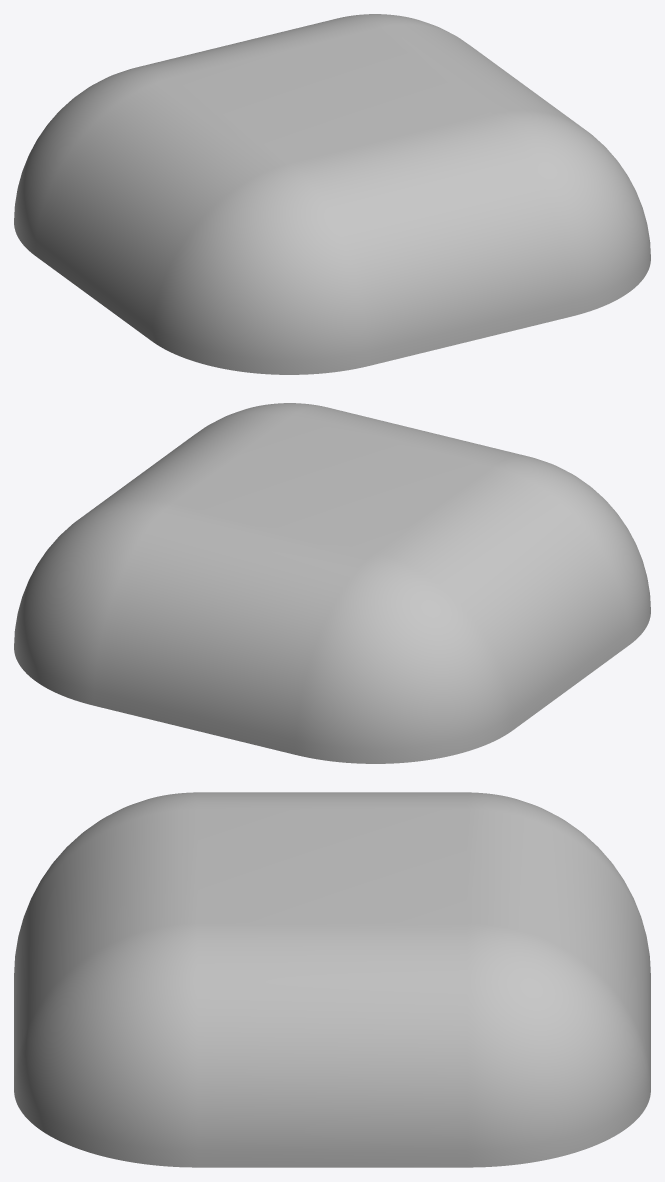
The model's file is ReactorRoof.fbx.
3 views of the same model, one above another, from view 1: azimuth 30°, elevation 25°; view 2: azimuth 150°, elevation 25°; view 3: azimuth 270°, elevation 25° (orthographic). The views are drawn at different scales.
Parts seen in each view (by area): view 1: Circle.001; view 2: Circle.001; view 3: Circle.001.
Boxes of the visible parts, box(x1,y1,x2,y2) form: Circle.001: box(14, 14, 650, 374); Circle.001: box(14, 403, 650, 763); Circle.001: box(14, 792, 650, 1167).
Size of the model in its own units: 2600 by 750 by 2600.
